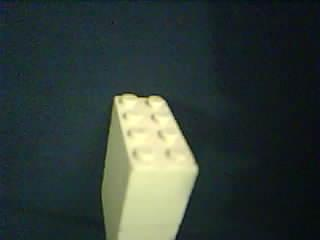lego: (100, 92, 200, 240)
